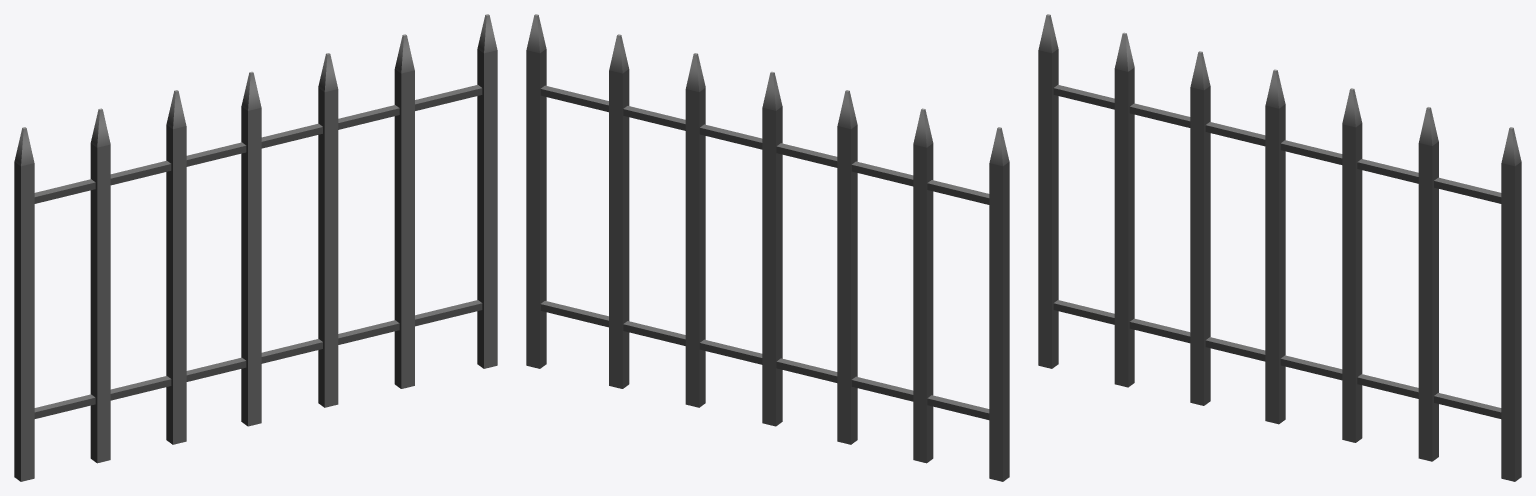
Rendered from fence_long_spike.fbx.
3 renders of one model, left to right at view 1: azimuth 30°, elevation 25°; view 2: azimuth 150°, elevation 25°; view 3: azimuth 330°, elevation 25°, orthographic.
Visible parts, largest first — view 1: fence_long_spike; view 2: fence_long_spike; view 3: fence_long_spike.
Boxes of the visible parts, bbox=[...] form: fence_long_spike: bbox=[14, 14, 497, 481]; fence_long_spike: bbox=[526, 14, 1009, 481]; fence_long_spike: bbox=[1038, 14, 1521, 481].
Size of the model in its own units: 5 by 3.51 by 0.1183.
